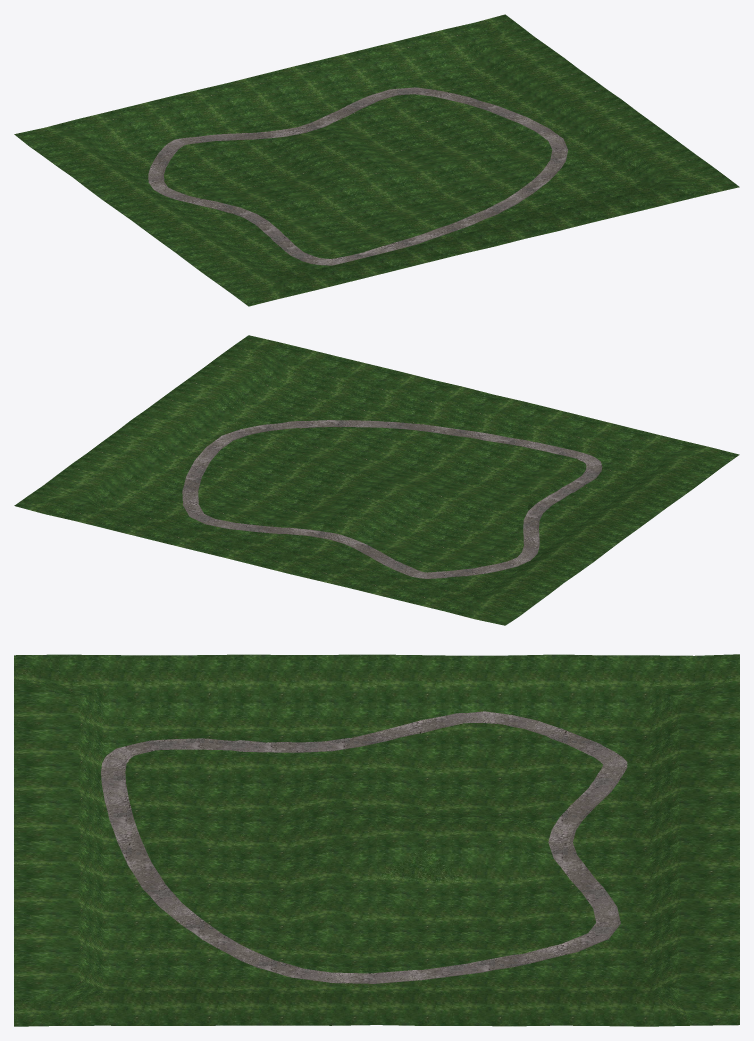
File: ground.glb
3 renders of one model, top to bottom at view 1: azimuth 30°, elevation 25°; view 2: azimuth 150°, elevation 25°; view 3: azimuth 270°, elevation 25°, orthographic. The views are drawn at different scales.
Visible parts, largest first — view 1: ground; view 2: ground; view 3: ground.
Boxes of the visible parts, bbox=[...] form: ground: bbox=[14, 14, 739, 306]; ground: bbox=[14, 335, 739, 625]; ground: bbox=[14, 654, 739, 1026].
Bounding box in the file's own units: 1100 × 27.34 × 910.
2 materials, 2 textured.
